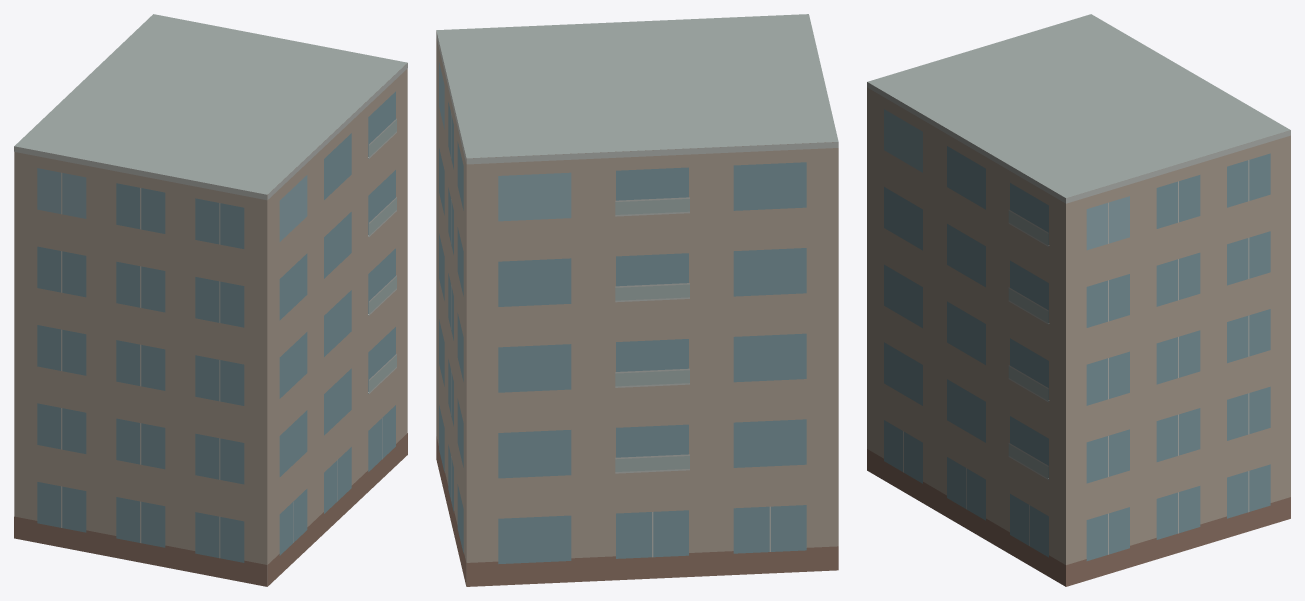
Rendered from survey-upis-32948505.glb.
The picture shows the model from 3 angles, left to right: view 1: azimuth 30°, elevation 25°; view 2: azimuth 150°, elevation 25°; view 3: azimuth 270°, elevation 25°; orthographic projection. The views are drawn at different scales.
Visible parts, largest first — view 1: survey-upis-32948505.tmp; view 2: survey-upis-32948505.tmp; view 3: survey-upis-32948505.tmp.
Boxes of the visible parts, x1,y1,x2,y2 form: survey-upis-32948505.tmp: (14,14,407,586); survey-upis-32948505.tmp: (436,14,838,586); survey-upis-32948505.tmp: (867,14,1290,586).
Bounding box in the file's own units: 17.49 × 17.2 × 17.
